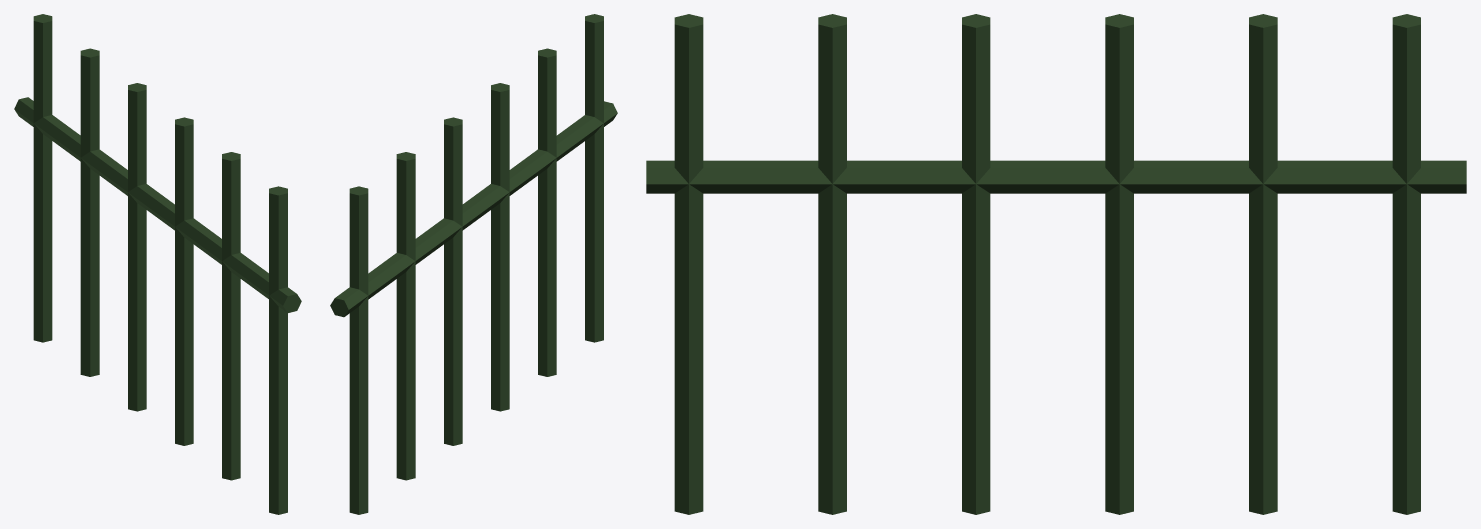
Rendered from zaun.fbx.
3 views of the same model, side by side, from view 1: azimuth 30°, elevation 25°; view 2: azimuth 150°, elevation 25°; view 3: azimuth 270°, elevation 25° (orthographic). The views are drawn at different scales.
Visible parts, largest first — view 1: pCylinder10; view 2: pCylinder10; view 3: pCylinder10.
Boxes of the visible parts, x1,y1,x2,y2 form: pCylinder10: [14, 14, 301, 514]; pCylinder10: [330, 14, 617, 514]; pCylinder10: [646, 14, 1466, 514].
Bounding box in the file's own units: 0.4347 × 7.08 × 10.8.
